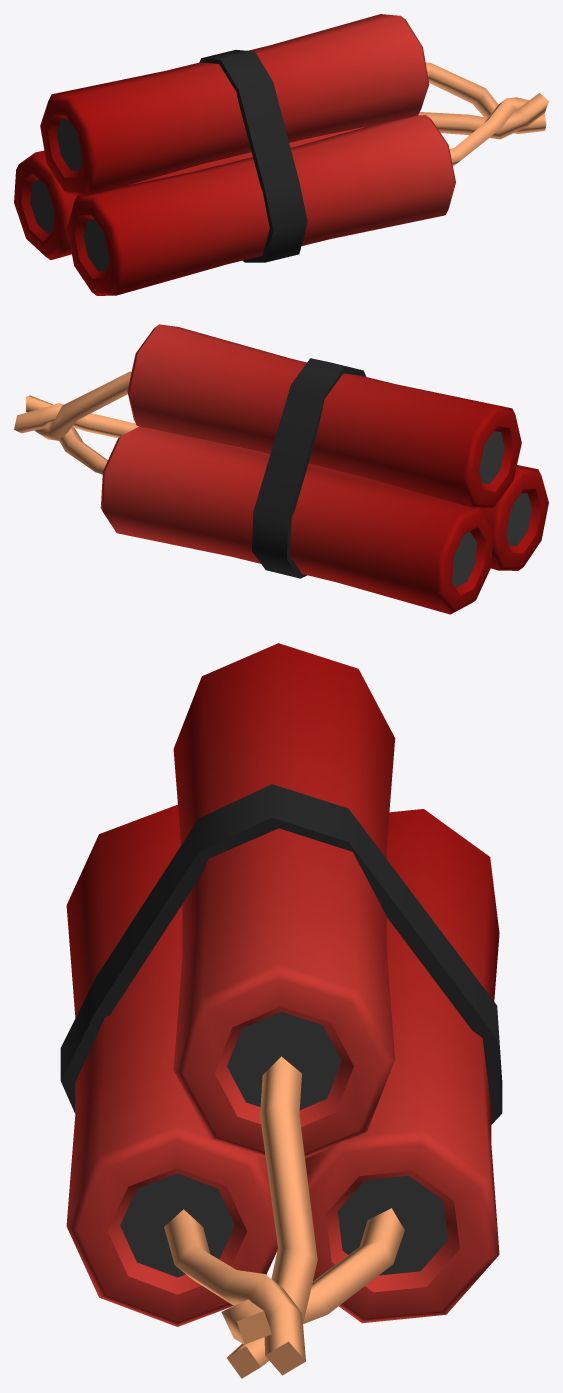
The model's file is dynamite_002.glb.
The picture shows the model from 3 angles, top to bottom: view 1: azimuth 30°, elevation 25°; view 2: azimuth 150°, elevation 25°; view 3: azimuth 270°, elevation 25°; orthographic projection. The views are drawn at different scales.
Parts seen in each view (by area): view 1: dynamite_002; view 2: dynamite_002; view 3: dynamite_002.
Boxes of the visible parts, <box> form: dynamite_002: <box>14,14,548,295</box>; dynamite_002: <box>14,324,548,614</box>; dynamite_002: <box>60,643,502,1378</box>.
Size of the model in its own units: 1.18 by 0.4427 by 0.4788.
Materials: 1 (1 with a texture image).
